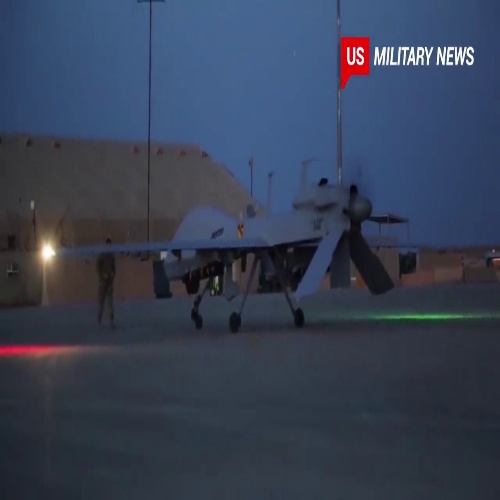uav107: (59, 180, 396, 331)
